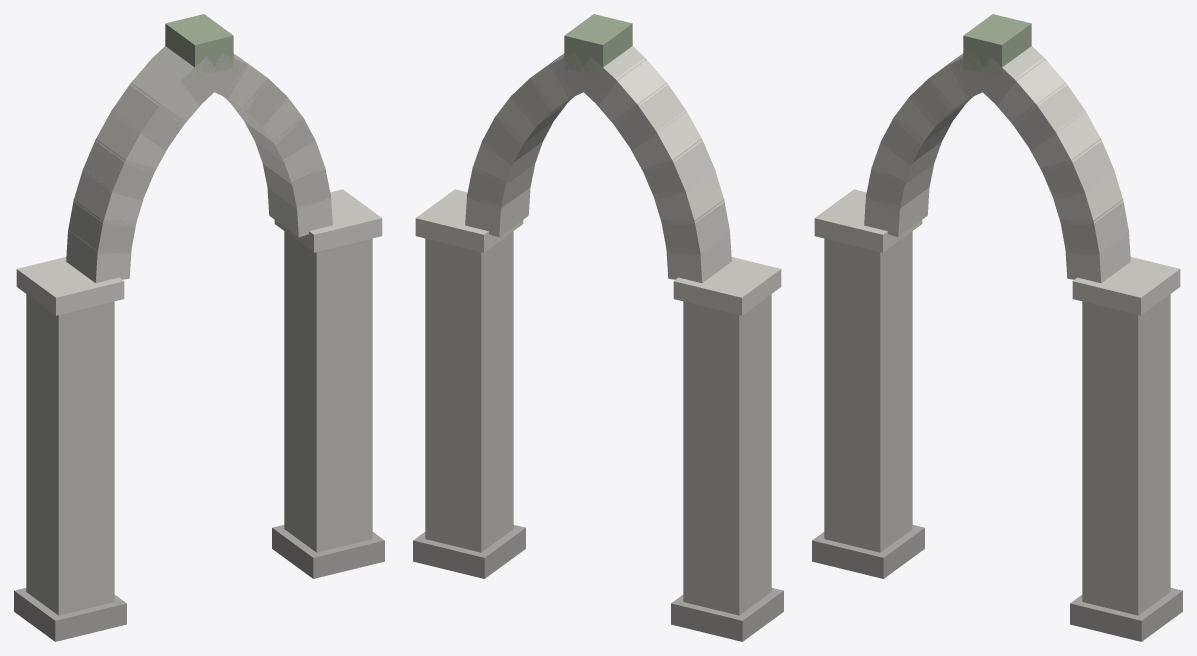
Rendered from Ruin_Arcade.glb.
3 views of the same model, side by side, from view 1: azimuth 30°, elevation 25°; view 2: azimuth 150°, elevation 25°; view 3: azimuth 330°, elevation 25° (orthographic).
Parts seen in each view (by area): view 1: Ruin_Arcade_0, Ruin_Arcade_2, Ruin_Arcade_1, Ruin_Arcade_3; view 2: Ruin_Arcade_0, Ruin_Arcade_2, Ruin_Arcade_1, Ruin_Arcade_3; view 3: Ruin_Arcade_0, Ruin_Arcade_2, Ruin_Arcade_1, Ruin_Arcade_3.
Boxes of the visible parts, x1,y1,x2,y2 form: Ruin_Arcade_0: (26,46,372,615); Ruin_Arcade_2: (16,54,382,315); Ruin_Arcade_1: (14,525,384,641); Ruin_Arcade_3: (165,14,233,76); Ruin_Arcade_0: (425,46,771,615); Ruin_Arcade_2: (415,54,781,315); Ruin_Arcade_1: (413,525,783,641); Ruin_Arcade_3: (564,14,632,76); Ruin_Arcade_0: (824,46,1170,615); Ruin_Arcade_2: (814,54,1180,315); Ruin_Arcade_1: (812,525,1182,641); Ruin_Arcade_3: (963,14,1031,74).
Bounding box in the file's own units: 4.24 × 6.85 × 0.92.
